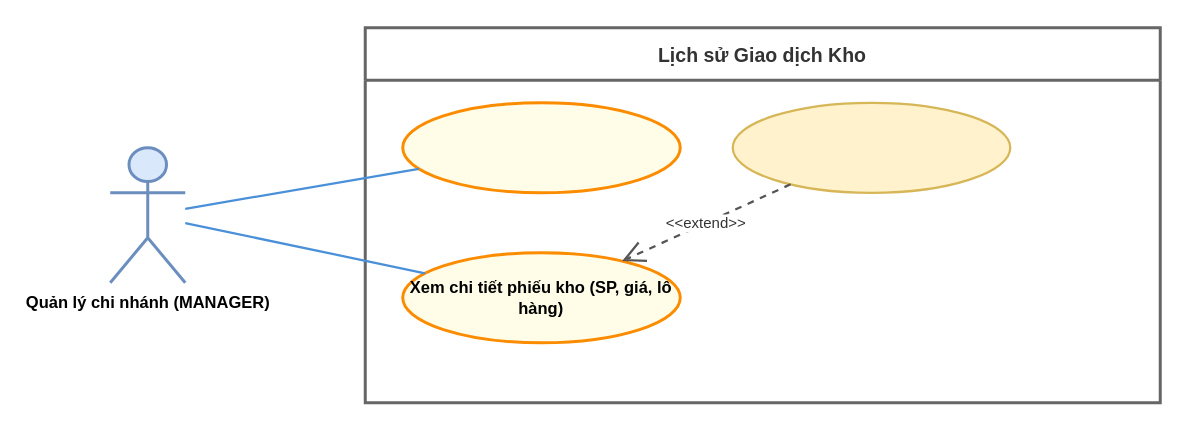
Some shapes in this 1188 by 429 pixel diagram are drawn without their labels. Each missing label, with the centre of its shape:
"Xem danh sách phiếu kho chi nhánh (lọc ngày/loại)" goes at pixel 540 147.
"Xuất báo cáo Excel hoặc In PDF hóa đơn" goes at pixel 871 147.
